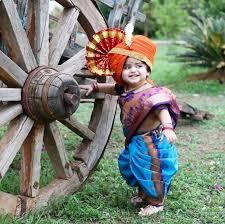Human: (90, 26, 191, 219)
